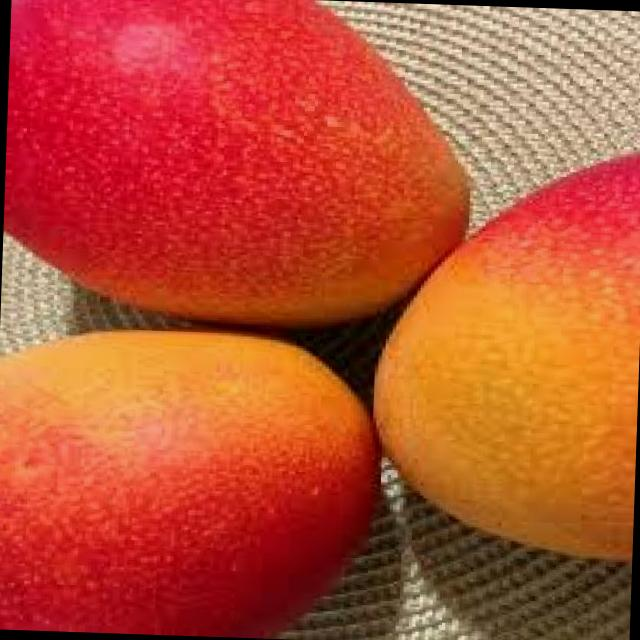Mango: (3, 0, 483, 334), (0, 320, 389, 640), (368, 138, 640, 562)
